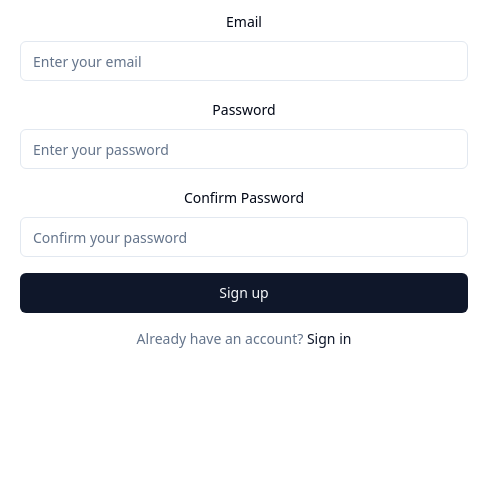
Test: SignUpForm › Password Strength Indicator › shows password strength indicator when password is entered
This screenshot has width=489, height=481.
Expected: the field labelled "Email" is shown, left=20, top=41, right=468, bottom=81
Type "P" into the password field with placeholder "Enter your password" at x=244, y=149, box left=20, top=129, right=468, bottom=169
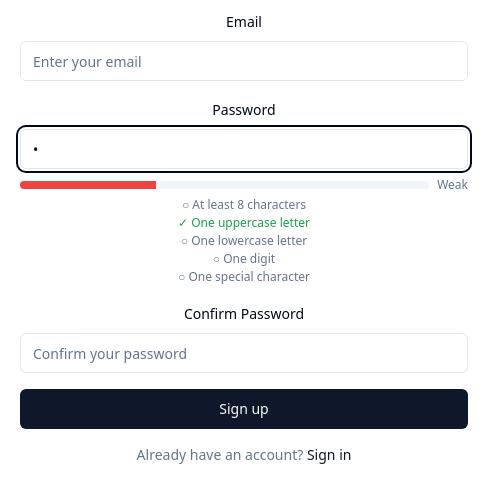
Now the text "weak" is shown, box left=437, top=177, right=468, bottom=193
